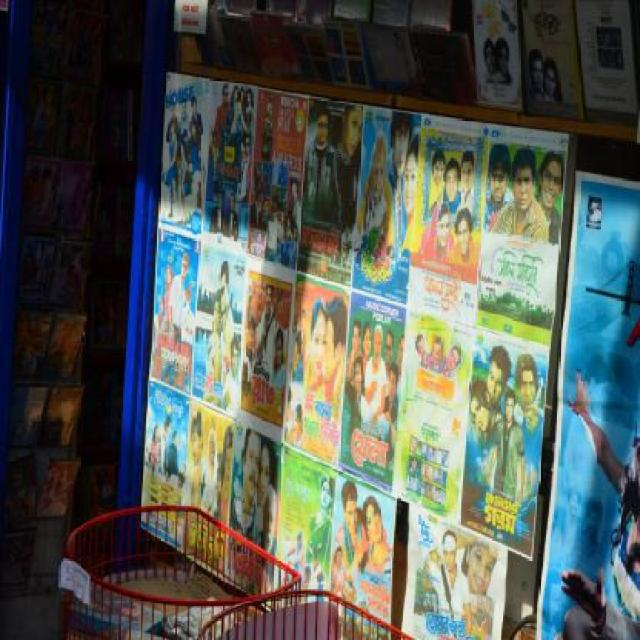Person: (348, 319, 403, 458), (202, 83, 261, 200), (490, 142, 552, 243), (418, 528, 474, 638), (432, 148, 479, 268), (301, 103, 344, 228), (355, 128, 396, 258), (484, 386, 528, 506), (163, 98, 206, 220), (448, 532, 498, 636), (230, 426, 264, 576), (510, 358, 542, 512), (248, 438, 281, 584), (158, 251, 191, 387), (249, 182, 297, 270), (388, 108, 415, 255), (347, 496, 391, 582), (335, 480, 370, 588), (332, 102, 360, 228), (533, 148, 565, 246), (482, 143, 515, 234), (322, 295, 346, 417), (308, 476, 334, 582), (215, 262, 237, 387), (301, 297, 325, 405), (468, 375, 506, 443), (399, 133, 418, 265), (202, 300, 224, 402), (185, 414, 204, 520), (486, 345, 512, 407), (180, 282, 195, 386), (333, 548, 358, 606), (202, 430, 218, 516), (150, 292, 167, 371), (218, 431, 232, 520), (226, 332, 240, 410), (220, 191, 240, 238), (162, 265, 176, 321), (210, 188, 224, 237), (161, 416, 173, 470), (429, 336, 445, 376), (166, 430, 180, 475), (446, 342, 462, 380), (415, 333, 428, 369), (150, 424, 159, 473)
